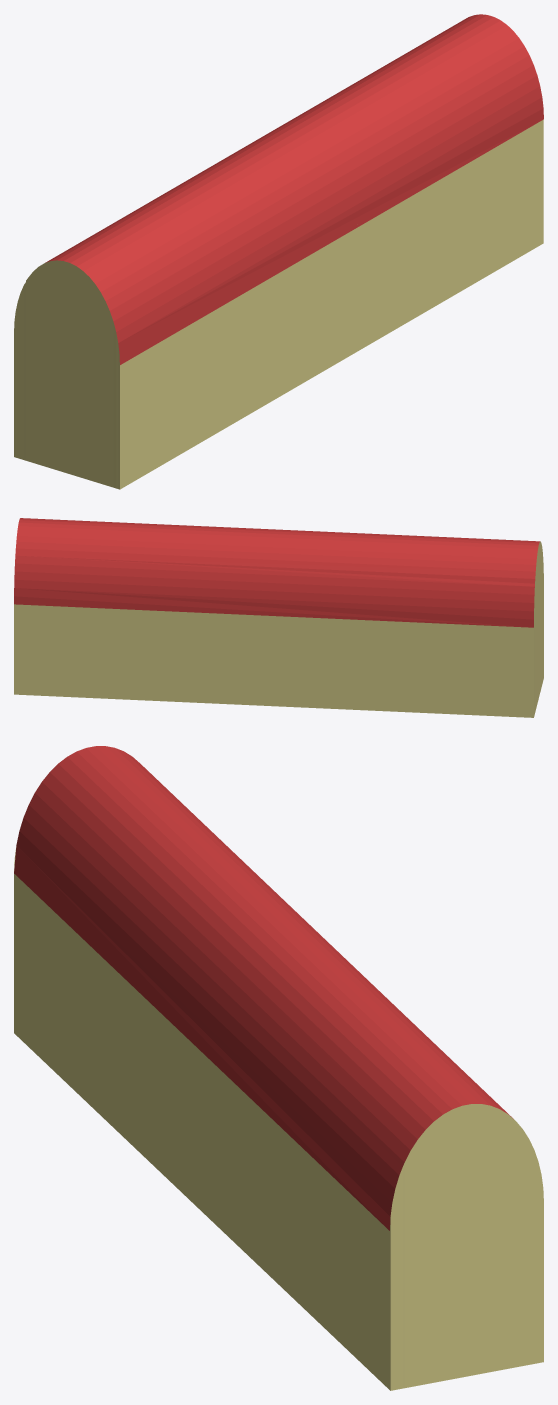
3 views of the same model, one above another, from view 1: azimuth 30°, elevation 25°; view 2: azimuth 150°, elevation 25°; view 3: azimuth 270°, elevation 25° (orthographic). The views are drawn at different scales.
Bounding box in the file's own units: 16.94 × 9.81 × 5.55.
